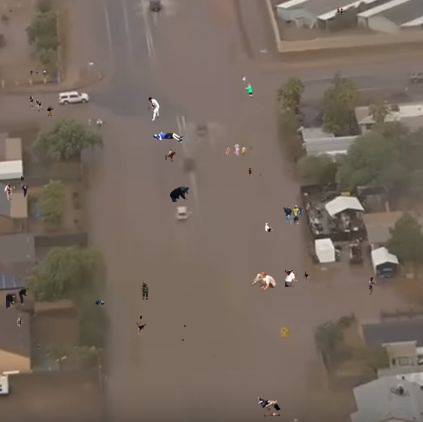Human: (251, 272, 276, 292), (285, 270, 314, 287), (6, 288, 29, 309), (4, 182, 29, 201), (283, 204, 303, 225), (225, 142, 254, 156), (153, 132, 184, 143), (29, 93, 46, 112), (258, 397, 281, 411), (147, 97, 160, 121), (170, 186, 189, 202), (242, 76, 253, 98), (136, 314, 146, 335), (368, 277, 379, 295), (30, 65, 46, 77), (246, 168, 262, 179), (141, 281, 149, 300), (165, 149, 176, 162), (265, 223, 273, 232), (47, 106, 54, 116), (264, 413, 280, 417), (17, 317, 23, 327), (95, 300, 105, 305), (337, 7, 343, 15), (21, 176, 24, 181), (212, 354, 215, 359), (8, 9, 12, 12), (183, 325, 186, 328), (182, 338, 184, 342), (289, 169, 290, 174), (206, 37, 207, 40), (401, 244, 402, 246)
